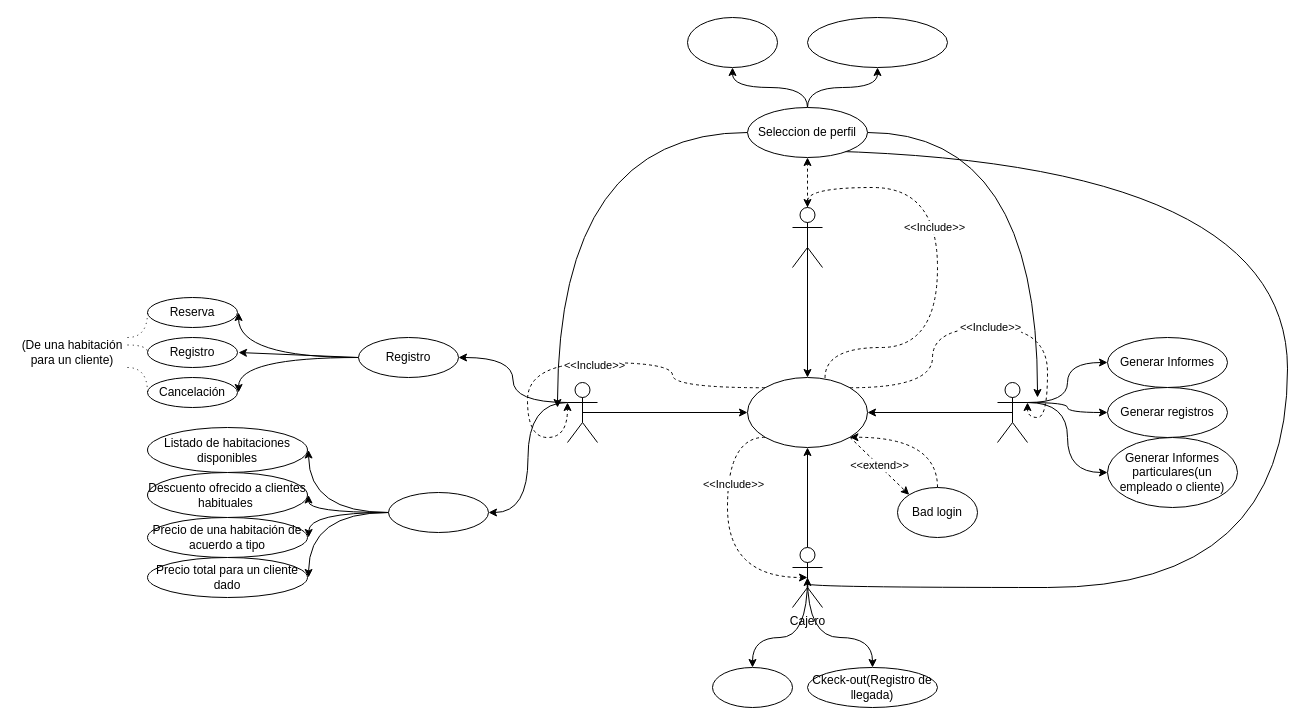
Image size: 1305x725. Some labels were removed from this diagram. The shapes that lost their labels are listed below. From the top down, each one's centre as x and y in pixels, then its label:
the point at 732,42: Cambio de valores
the point at 877,42: Generar calculo de ventas de mes especifico
the point at 807,237: Administrador
the point at 582,412: Recepcionista
the point at 807,412: Seleccion de perfil y login
the point at 1012,412: Gerente
the point at 438,512: Consulta(Para generar)
the point at 752,687: Cerrar cuenta
